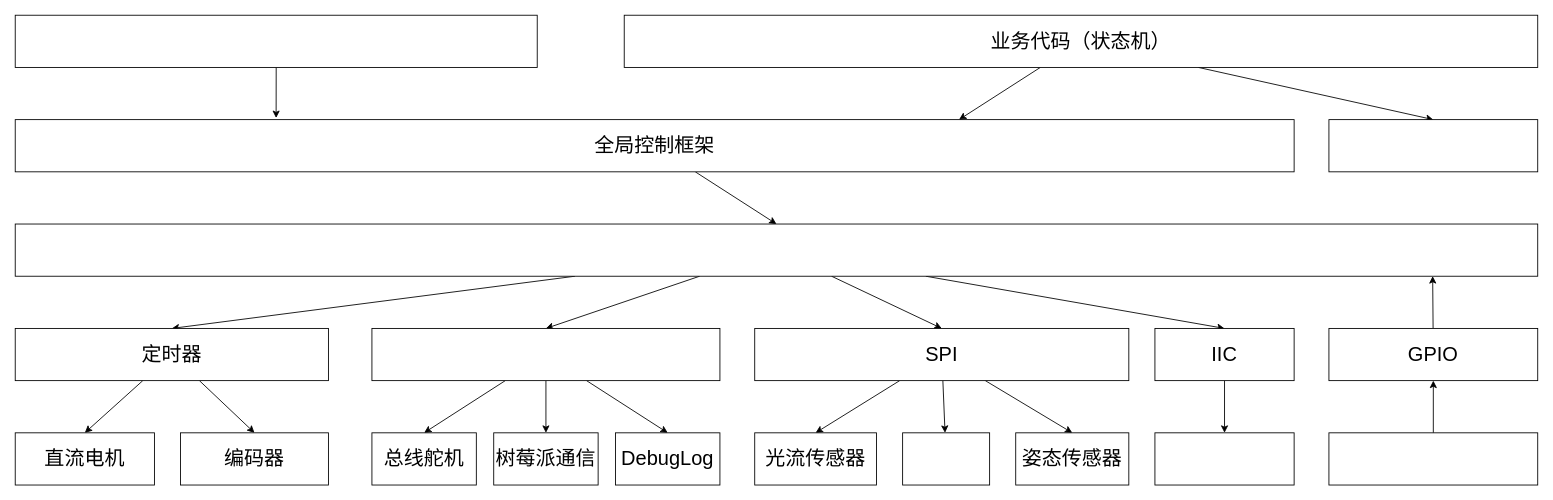
Image size: 1553x500. Some labels were removed from this diagram. The shapes that lost their labels are listed below. From the top down, each one's centre as x and y in pixels, then its label:
(275,40): LetterShell API
(1433,145): CommonKey按键框架
(776,249): STM32 HAL
(545,354): 串口
(946,458): LCD
(1224,458): 磁力计
(1433,458): 按键
